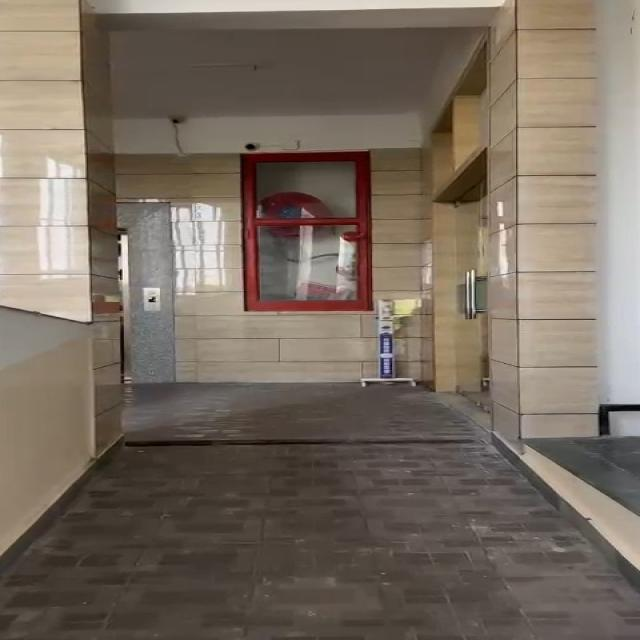floor: (121, 385, 526, 640)
wall: (371, 0, 640, 408), (0, 0, 241, 422)
